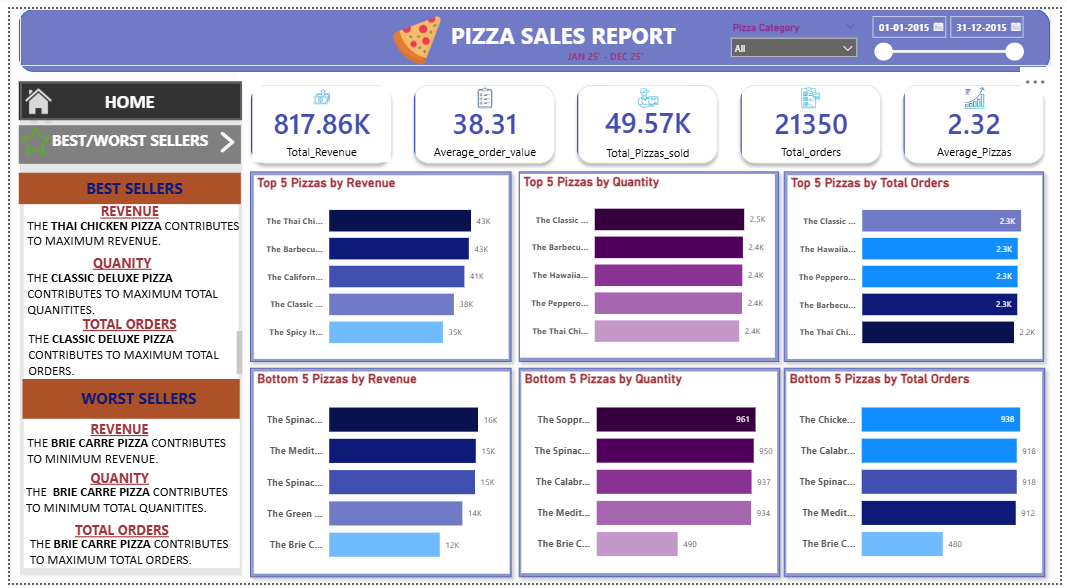

Layout of this report page (visuals, bound fields, positions):
{"tool":"powerbi","page":{"name":"Best/worst'","canvas":[1500,820],"ordinal":1},"visuals":[{"type":"cardVisual","fields":{"Data":["pizza_sales$.Total_Revenue","pizza_sales$.Average_order_value","pizza_sales$.Total_Pizzas_sold","pizza_sales$.Total_orders","pizza_sales$.Average_Pizzas_Per_order"]},"box":[324.3,90,1175.7,150],"z":0},{"type":"shape","box":[12.7,0,1473.2,90.1],"z":1000},{"type":"textbox","box":[14.5,0,1472.5,82.6],"z":2000},{"type":"image","box":[531.7,8.3,98.3,71.7],"z":3000},{"type":"shape","box":[334.8,223.2,391.3,289.9],"z":4000},{"type":"textbox","box":[791.7,53.3,121.7,28.3],"z":5000},{"type":"shape","box":[14.5,120.3,317.4,689.9],"z":6000},{"type":"slicer","fields":{"Values":["pizza_sales$.pizza_category"]},"box":[1020,11.7,200,71.7],"z":7000},{"type":"slicer","fields":{"Values":["pizza_sales$.order_date"]},"box":[1220,0,236.7,81.7],"z":8000},{"type":"image","box":[12.9,117.1,64.3,48.6],"z":9000},{"type":"shape","box":[12.1,103.4,317.2,55.2],"z":10000},{"type":"textbox","box":[106.9,110.3,127.6,48.3],"z":11000},{"type":"image","box":[10.3,110.3,60.3,41.4],"z":12000},{"type":"shape","box":[12.1,165.5,317.2,55.2],"z":13000},{"type":"textbox","box":[33.3,168.3,275,55],"z":14000},{"type":"image","box":[11.7,168.3,48.3,41.7],"z":15000},{"type":"shape","box":[20.3,547.8,308.7,250.7],"z":16000},{"type":"shape","box":[19,270.7,306.9,301.7],"z":17000},{"type":"shape","box":[17.2,529.3,310.3,56.9],"z":18000},{"type":"shape","box":[12.1,234.5,317.2,44.8],"z":19000},{"type":"textbox","box":[60.3,536.2,246.6,44.8],"z":20000},{"type":"textbox","box":[29.3,236.2,298.3,43.1],"z":21000},{"type":"textbox","box":[58.6,270.7,224.1,43.1],"z":22000},{"type":"textbox","box":[19,293.1,315.5,55.2],"z":23000},{"type":"textbox","box":[600,10,381.7,61.7],"z":24000},{"type":"shape","box":[717.4,223.2,389.9,289.9],"z":25000},{"type":"shape","box":[1097.1,223.2,389.9,289.9],"z":26000},{"type":"shape","box":[334.5,503.4,391.4,317.2],"z":27000},{"type":"shape","box":[717.1,502.9,391.4,317.1],"z":28000},{"type":"shape","box":[1097.1,502.9,391.4,317.1],"z":29000},{"type":"clusteredBarChart","title":"Top 5 Pizzas by Revenue","fields":{"Category":["pizza_sales$.pizza_name"],"Y":["pizza_sales$.Total_Revenue"]},"box":[349,237,364,262],"z":30000},{"type":"clusteredBarChart","title":"Bottom 5 Pizzas by Revenue","fields":{"Category":["pizza_sales$.pizza_name"],"Y":["pizza_sales$.Total_Revenue"]},"box":[348.3,517.2,365.5,289],"z":31000},{"type":"clusteredBarChart","title":"Top 5 Pizzas by Quantity","fields":{"Category":["pizza_sales$.pizza_name"],"Y":["pizza_sales$.Total_Pizzas_sold"]},"box":[729.3,236.2,363.8,262.1],"z":32000},{"type":"clusteredBarChart","title":"Top 5 Pizzas by Total Orders","fields":{"Category":["pizza_sales$.pizza_name"],"Y":["pizza_sales$.Total_orders"]},"box":[1110.3,237.9,363.8,262.1],"z":33000},{"type":"clusteredBarChart","title":"Bottom 5 Pizzas by Quantity","fields":{"Category":["pizza_sales$.pizza_name"],"Y":["pizza_sales$.Total_Pizzas_sold"]},"box":[731,517.2,365.5,287.9],"z":34000},{"type":"clusteredBarChart","title":"Bottom 5 Pizzas by Total Orders","fields":{"Category":["pizza_sales$.pizza_name"],"Y":["pizza_sales$.Total_orders"]},"box":[1108.6,517.2,365.5,287.9],"z":35000},{"type":"textbox","box":[48.3,344.8,224.1,43.1],"z":36000},{"type":"textbox","box":[19,367.2,315.5,87.9],"z":37000},{"type":"textbox","box":[58.6,432.8,224.1,43.1],"z":38000},{"type":"textbox","box":[20.7,455.2,315.5,74.1],"z":39000},{"type":"textbox","box":[45,581.7,223.3,41.7],"z":40000},{"type":"textbox","box":[19,603.4,315.5,55.2],"z":41000},{"type":"textbox","box":[44.8,651.7,224.1,43.1],"z":42000},{"type":"textbox","box":[18.3,673.3,316.7,75],"z":43000},{"type":"textbox","box":[48.3,726.7,223.3,41.7],"z":44000},{"type":"textbox","box":[22.4,748.3,315.5,72.4],"z":45000},{"type":"actionButton","box":[13.8,103.4,317.2,55.2],"z":46000},{"type":"image","box":[283.3,171.7,53.3,38.3],"z":47000}]}

Visuals, with their boxes in screenshot pixels (x1, y1, x2, y2), scaled from the page's 1500x820 canvas onto the 1067x588 screenshot:
cardVisual - pizza_sales$.Total_Revenue x pizza_sales$.Average_order_value: detection(231, 65, 1066, 172)
shape: detection(9, 0, 1057, 65)
textbox: detection(10, 0, 1058, 59)
image: detection(378, 6, 448, 57)
shape: detection(238, 160, 516, 368)
textbox: detection(563, 38, 650, 59)
shape: detection(10, 86, 236, 581)
slicer - pizza_sales$.pizza_category: detection(726, 8, 868, 60)
slicer - pizza_sales$.order_date: detection(868, 0, 1036, 59)
image: detection(9, 84, 55, 119)
shape: detection(9, 74, 234, 114)
textbox: detection(76, 79, 167, 114)
image: detection(7, 79, 50, 109)
shape: detection(9, 119, 234, 158)
textbox: detection(24, 121, 219, 160)
image: detection(8, 121, 43, 151)
shape: detection(14, 393, 234, 573)
shape: detection(14, 194, 232, 410)
shape: detection(12, 380, 233, 420)
shape: detection(9, 168, 234, 200)
textbox: detection(43, 384, 218, 417)
textbox: detection(21, 169, 233, 200)
textbox: detection(42, 194, 201, 225)
textbox: detection(14, 210, 238, 250)
textbox: detection(427, 7, 698, 51)
shape: detection(510, 160, 788, 368)
shape: detection(780, 160, 1058, 368)
shape: detection(238, 361, 516, 587)
shape: detection(510, 361, 789, 587)
shape: detection(780, 361, 1059, 587)
"Top 5 Pizzas by Revenue" clusteredBarChart: detection(248, 170, 507, 358)
"Bottom 5 Pizzas by Revenue" clusteredBarChart: detection(248, 371, 508, 578)
"Top 5 Pizzas by Quantity" clusteredBarChart: detection(519, 169, 778, 357)
"Top 5 Pizzas by Total Orders" clusteredBarChart: detection(790, 171, 1049, 359)
"Bottom 5 Pizzas by Quantity" clusteredBarChart: detection(520, 371, 780, 577)
"Bottom 5 Pizzas by Total Orders" clusteredBarChart: detection(789, 371, 1049, 577)
textbox: detection(34, 247, 194, 278)
textbox: detection(14, 263, 238, 326)
textbox: detection(42, 310, 201, 341)
textbox: detection(15, 326, 239, 380)
textbox: detection(32, 417, 191, 447)
textbox: detection(14, 433, 238, 472)
textbox: detection(32, 467, 191, 498)
textbox: detection(13, 483, 238, 537)
textbox: detection(34, 521, 193, 551)
textbox: detection(16, 537, 240, 587)
actionButton: detection(10, 74, 235, 114)
image: detection(202, 123, 239, 151)
